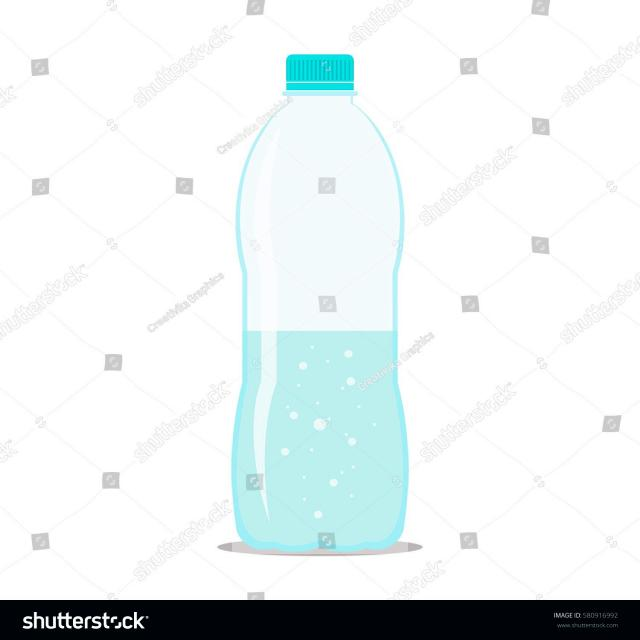half-bottle: (232, 51, 408, 554)
